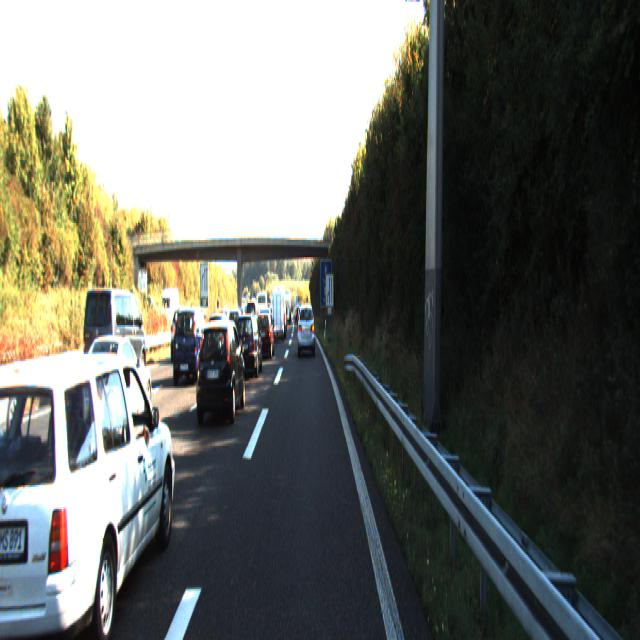Car: (0, 337, 182, 638), (69, 329, 153, 445), (82, 285, 148, 398), (194, 317, 246, 427), (0, 325, 28, 456), (172, 304, 210, 385), (232, 312, 262, 379), (254, 313, 275, 361), (297, 300, 315, 355), (271, 288, 285, 342)
